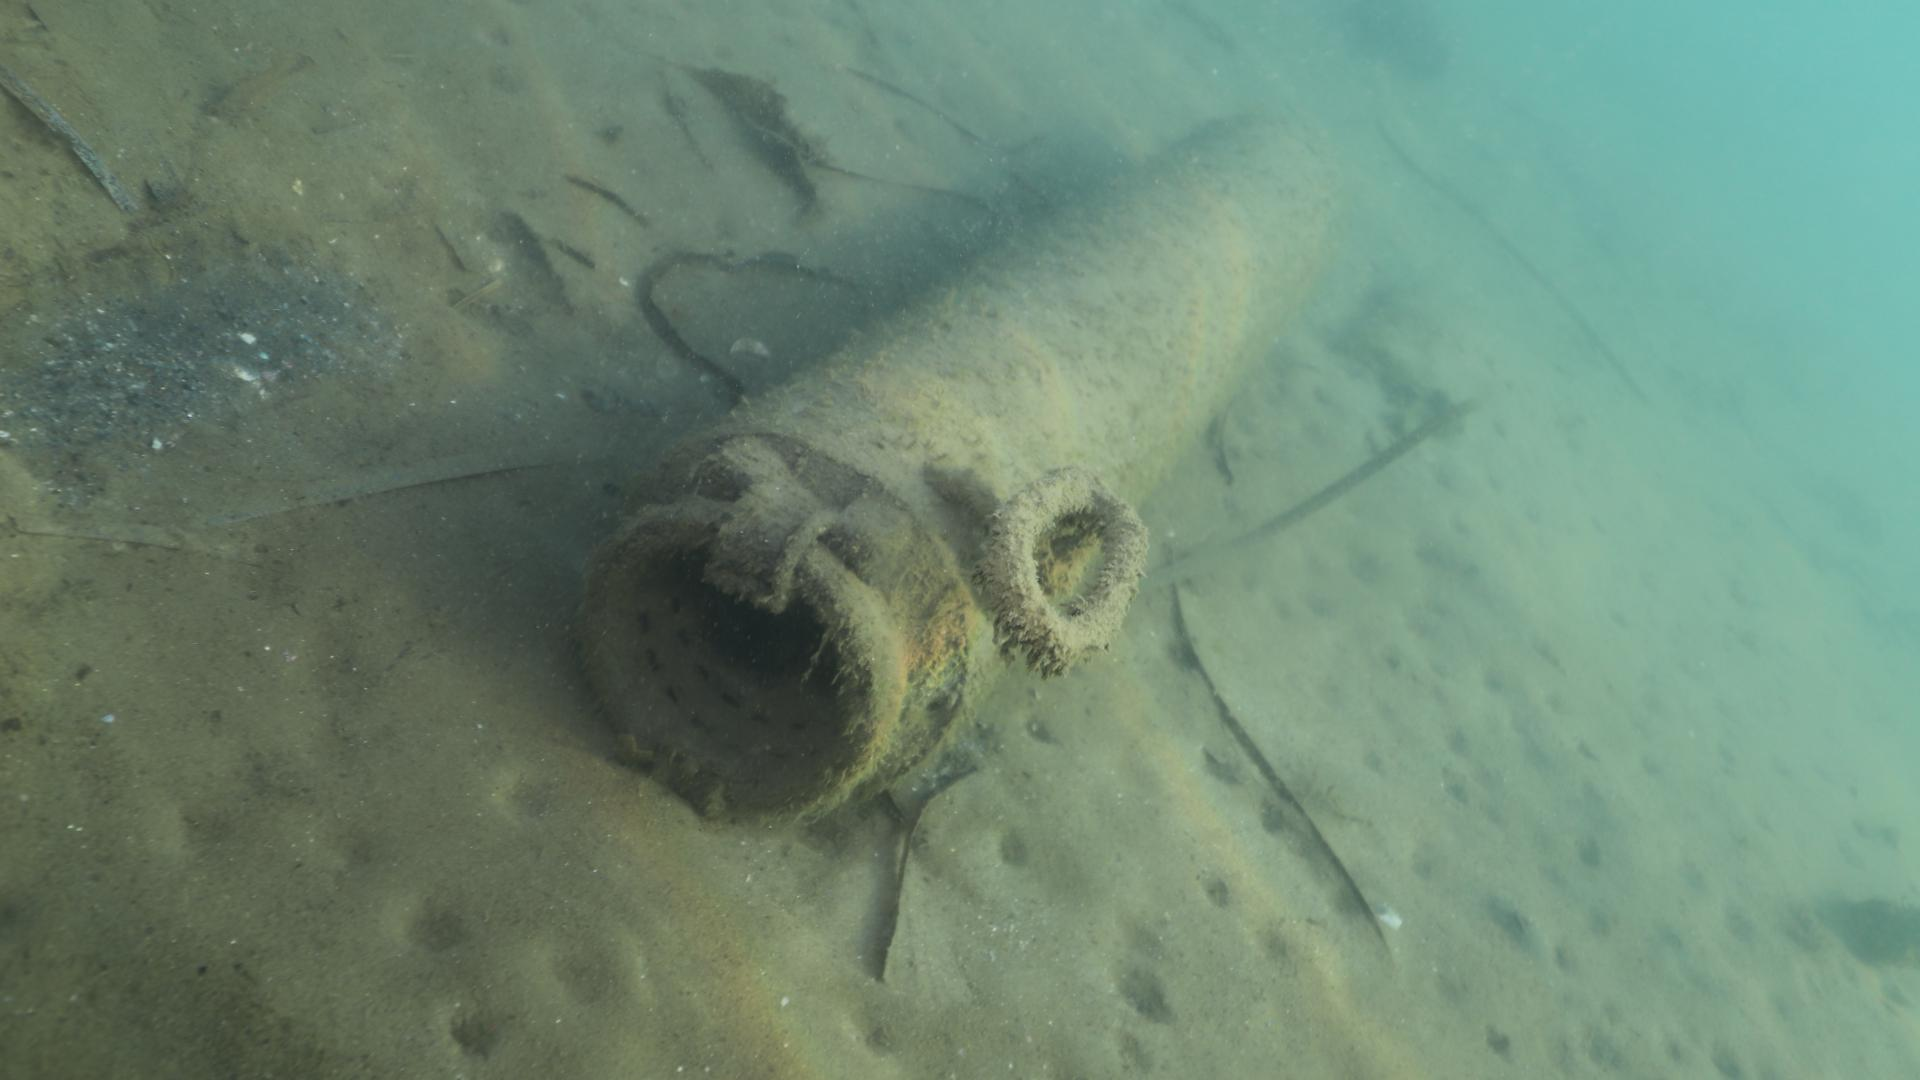eel fish trap: (572, 109, 1353, 835)
rope: (982, 463, 1149, 659)
